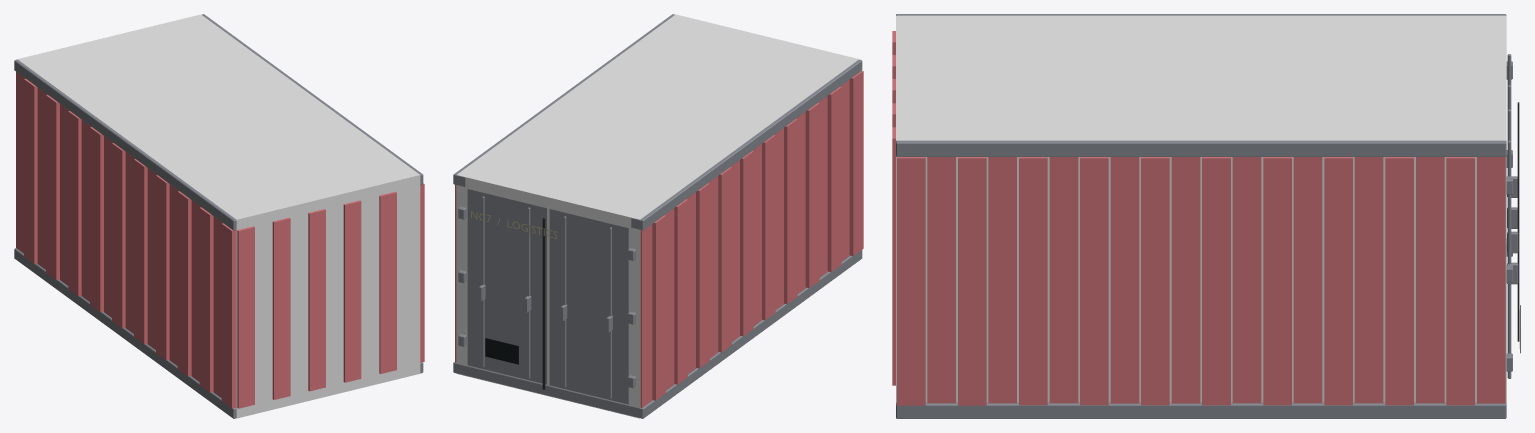
File: container.glb
3 views of the same model, side by side, from view 1: azimuth 30°, elevation 25°; view 2: azimuth 150°, elevation 25°; view 3: azimuth 270°, elevation 25° (orthographic). The views are drawn at different scales.
Parts seen in each view (by area): view 1: container_paint_red, COL_container; view 2: container_paint_red, COL_container, container_nc7_polymer, container_nc7_dark; view 3: container_paint_red, COL_container, container_nc7_polymer.
Part boxes in pixels (x1,y1,x2,y2): container_paint_red: (14, 14, 424, 418); COL_container: (17, 14, 420, 418); container_paint_red: (453, 14, 863, 418); COL_container: (456, 14, 858, 418); container_nc7_polymer: (542, 218, 545, 389); container_nc7_dark: (485, 338, 518, 364); container_paint_red: (892, 14, 1518, 418); COL_container: (896, 15, 1506, 402); container_nc7_polymer: (1517, 102, 1519, 341).
Size of the model in its own units: 3.04 by 3 by 6.17.
